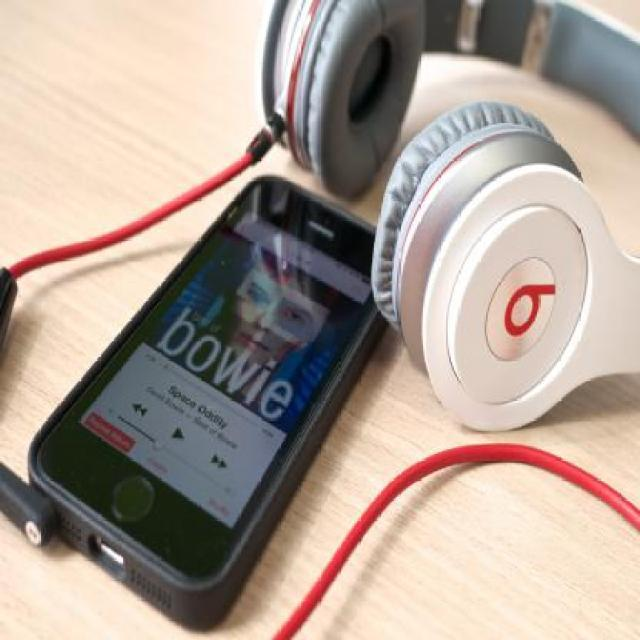earphone: (331, 0, 640, 368)
smart phone: (23, 143, 325, 612)
